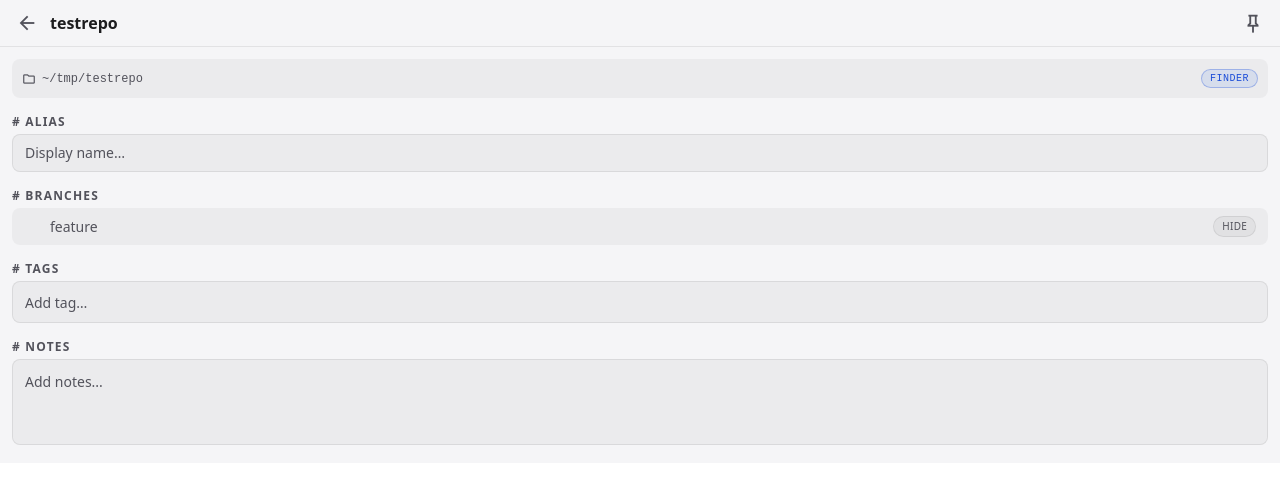
Test case: DetailPane › hide_branch_error_shows_branchError_and_keeps_row
The width and height of the screenshot is (1280, 494).
expect the button with aria-label "Activate branch feature" is shown: met, box [50,217,1205,237]
Step 1. Click the button with aria-label "Hide branch feature" → click(1235, 227), box [1213,216,1256,237]
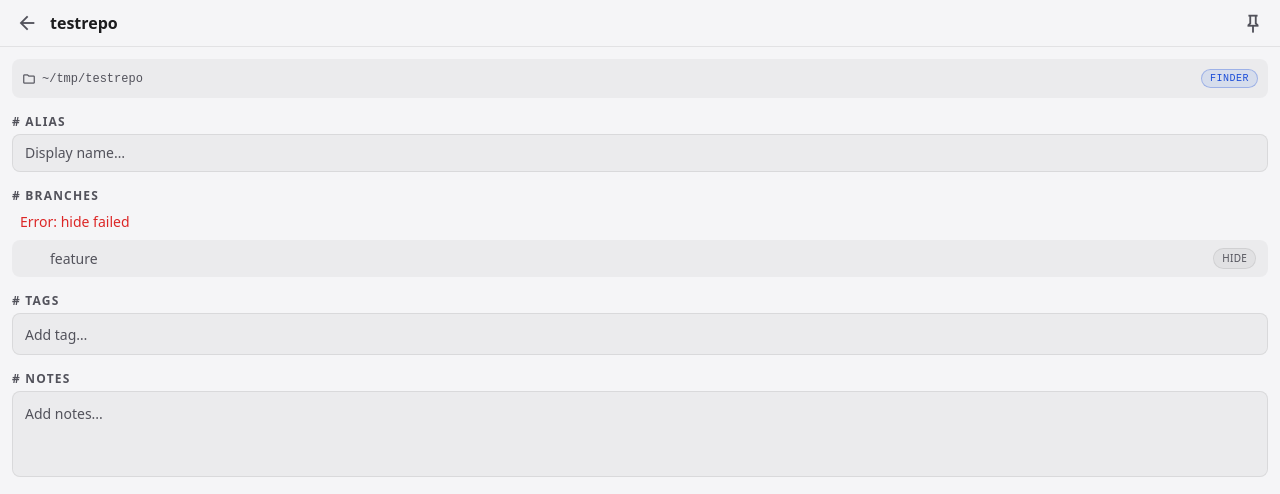
expect the button with aria-label "Activate branch feature" is shown: met, box [50,249,1205,269]
expect the text "Error: hide failed" is shown: met, box [20,212,130,231]
